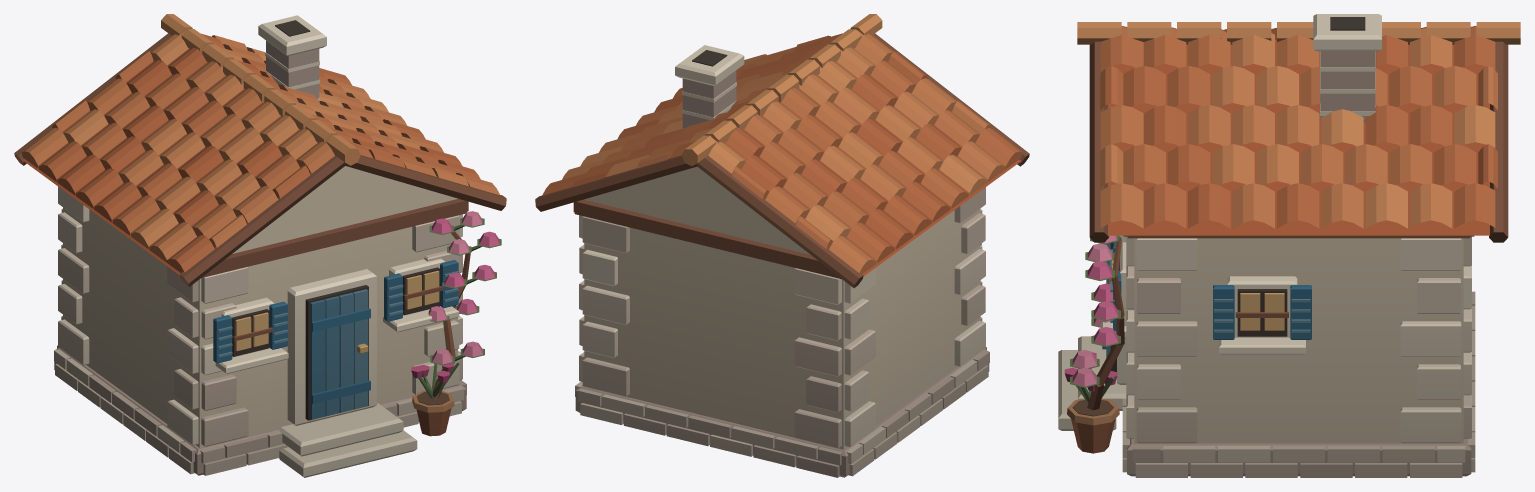
The model's file is aegean.glb.
The picture shows the model from 3 angles, left to right: view 1: azimuth 30°, elevation 25°; view 2: azimuth 150°, elevation 25°; view 3: azimuth 270°, elevation 25°; orthographic projection. The views are drawn at different scales.
Visible parts, largest first — view 1: House; view 2: House; view 3: House.
Part boxes in pixels (x1,y1,x2,y2): House: (14,14,506,477); House: (535,14,1029,477); House: (1058,14,1520,477).
Bounding box in the file's own units: 2.95 × 2.94 × 3.04.
